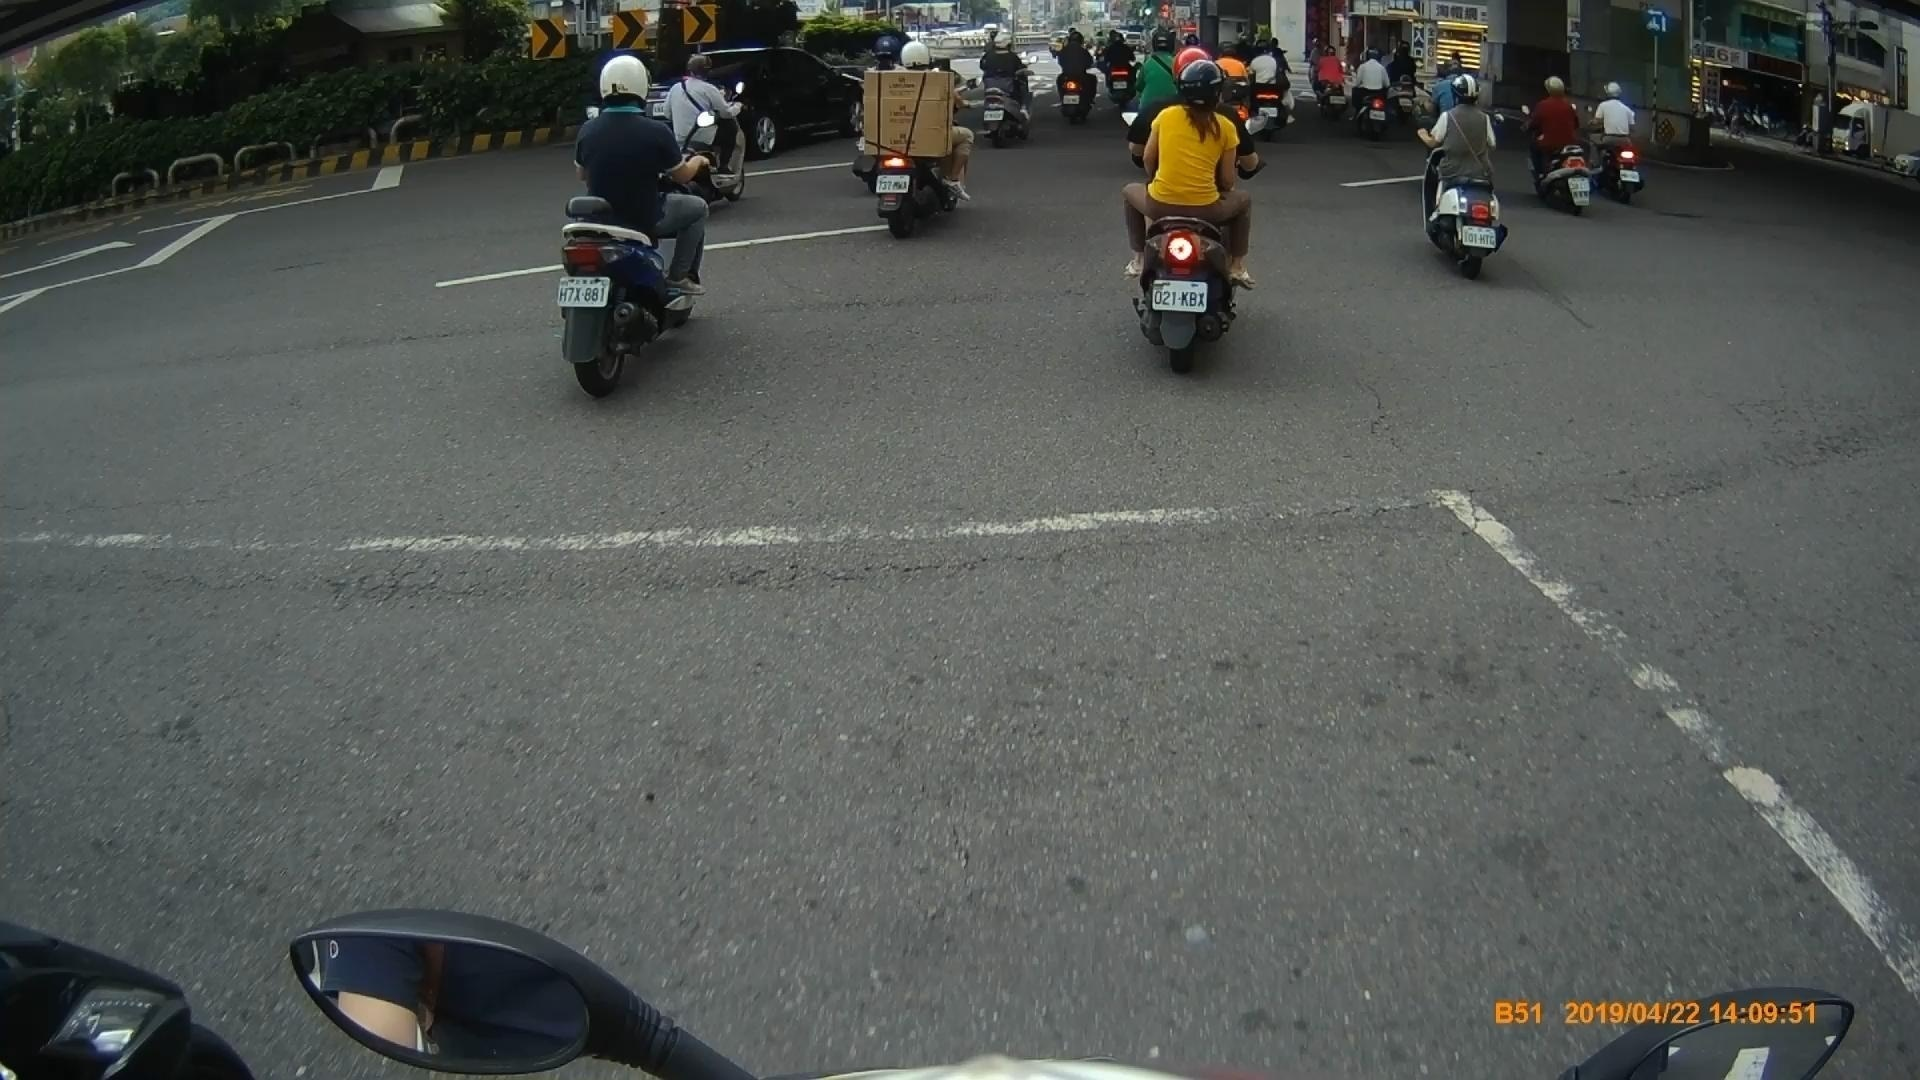License_plate: (1149, 277, 1210, 314), (555, 270, 610, 308), (1458, 221, 1499, 251)
